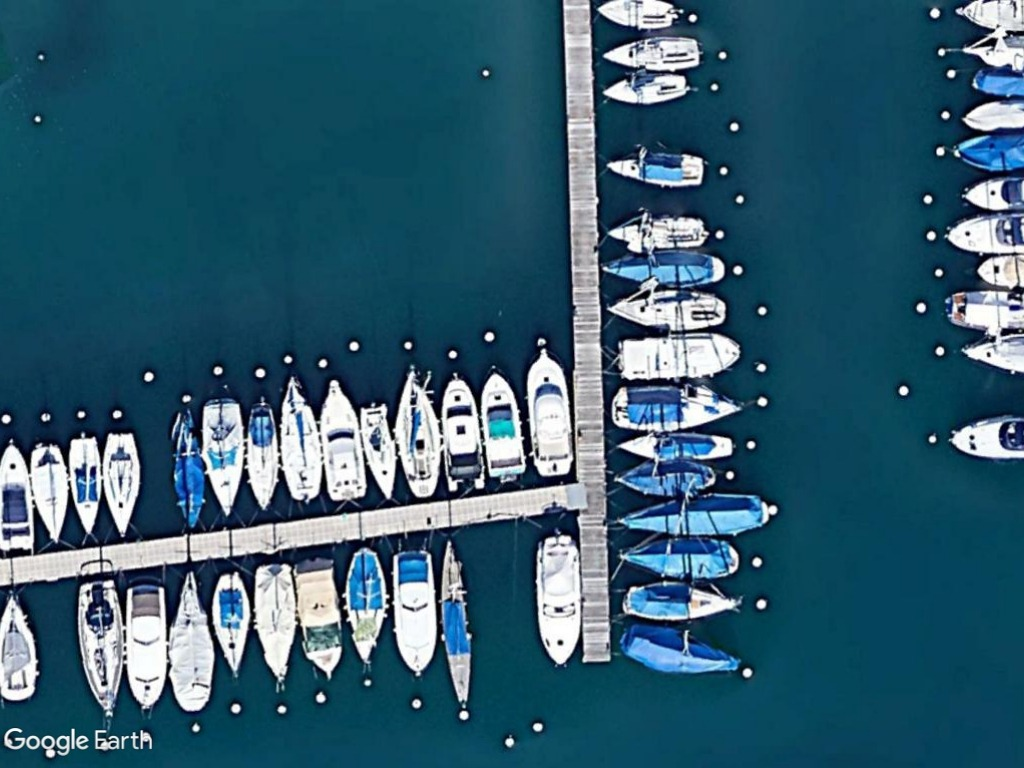boat: (163, 563, 219, 720), (385, 365, 449, 502), (69, 572, 127, 723), (610, 489, 775, 539), (612, 326, 751, 385), (291, 550, 349, 685), (385, 543, 439, 685), (522, 337, 575, 481), (533, 526, 585, 672), (432, 536, 475, 712), (192, 389, 247, 526), (311, 375, 366, 507), (121, 573, 171, 718), (616, 624, 738, 682), (336, 543, 387, 678), (277, 370, 326, 510), (250, 554, 300, 689), (613, 575, 742, 627), (613, 536, 748, 585), (612, 381, 744, 431), (477, 359, 527, 489), (435, 368, 484, 497), (609, 282, 734, 331), (237, 385, 281, 517), (600, 246, 729, 291), (210, 566, 256, 691), (165, 404, 210, 531), (0, 586, 43, 710), (98, 426, 143, 544), (59, 430, 104, 546), (603, 204, 712, 250), (356, 395, 400, 508), (609, 457, 725, 497), (29, 436, 69, 552), (597, 33, 707, 73), (601, 152, 712, 191), (610, 433, 742, 460), (599, 69, 693, 105)
